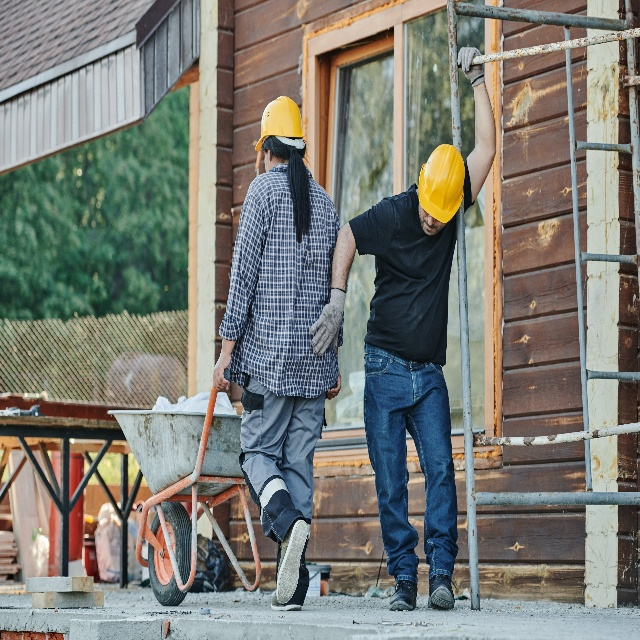Guantes: (310, 287, 347, 356), (456, 47, 485, 87)
Sin_guantes: (213, 352, 232, 391), (327, 369, 342, 400)
